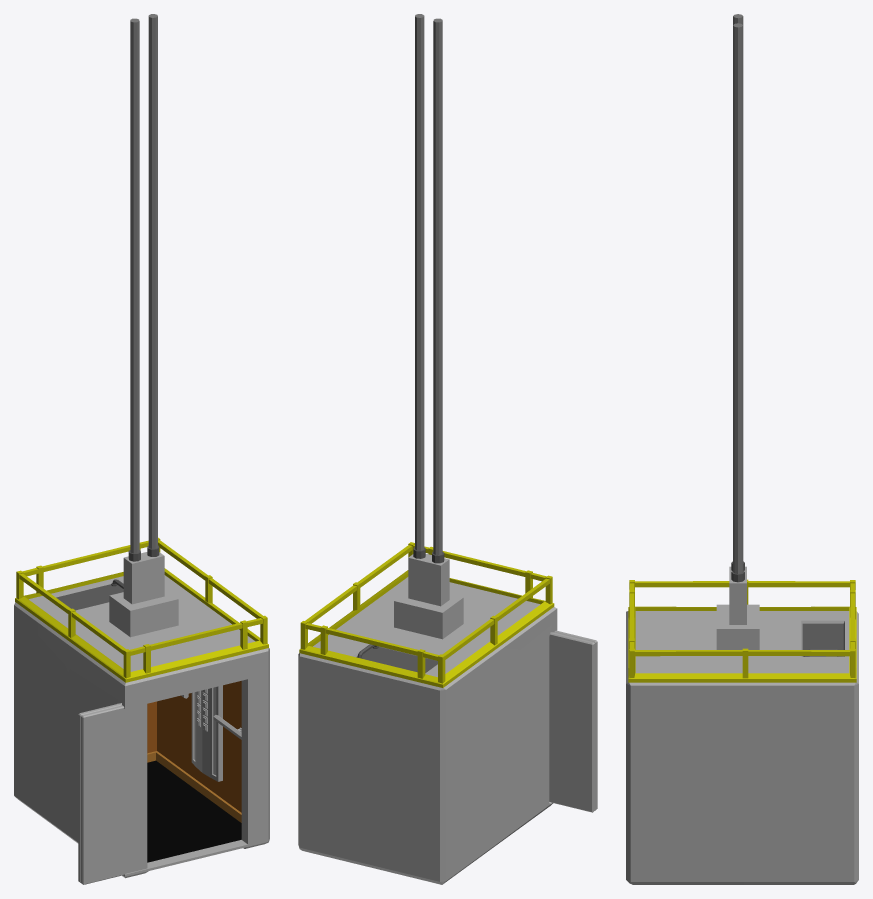
File: elevator_v1.fbx
3 views of the same model, side by side, from view 1: azimuth 30°, elevation 25°; view 2: azimuth 150°, elevation 25°; view 3: azimuth 270°, elevation 25° (orthographic). The views are drawn at different scales.
Parts seen in each view (by area): view 1: Cart_Elevator, Cube_Cube.011, Door_Cube, SafetyRamps_Cube.004, Console_Cube.006, Trap_Cube.012; view 2: Cart_Elevator, Cube_Cube.011, SafetyRamps_Cube.004, Door_Cube, Trap_Cube.012; view 3: Cart_Elevator, Cube_Cube.011, SafetyRamps_Cube.004, Trap_Cube.012.
Part boxes in pixels (x1,y1,x2,y2): Cart_Elevator: (14,575,269,878); Cube_Cube.011: (109,14,178,637); Door_Cube: (78,703,147,884); SafetyRamps_Cube.004: (15,537,268,682); Console_Cube.006: (191,685,222,781); Trap_Cube.012: (56,579,123,610); Cart_Elevator: (298,577,557,884); Cube_Cube.011: (394,14,463,639); SafetyRamps_Cube.004: (299,542,554,687); Door_Cube: (549,630,597,812); Trap_Cube.012: (356,644,437,672); Cart_Elevator: (626,611,858,884); Cube_Cube.011: (716,14,759,649); SafetyRamps_Cube.004: (628,579,856,682); Trap_Cube.012: (802,623,843,656).
Bounding box in the file's own units: 297 × 1214 × 309.
